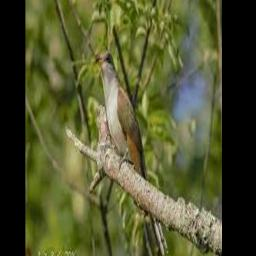Cuckoo: (95, 51, 168, 256)
